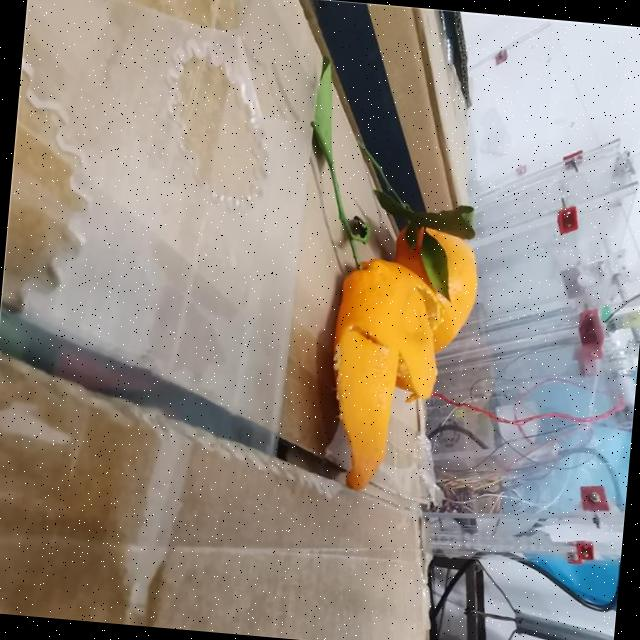orange-peel: (318, 214, 482, 498)
